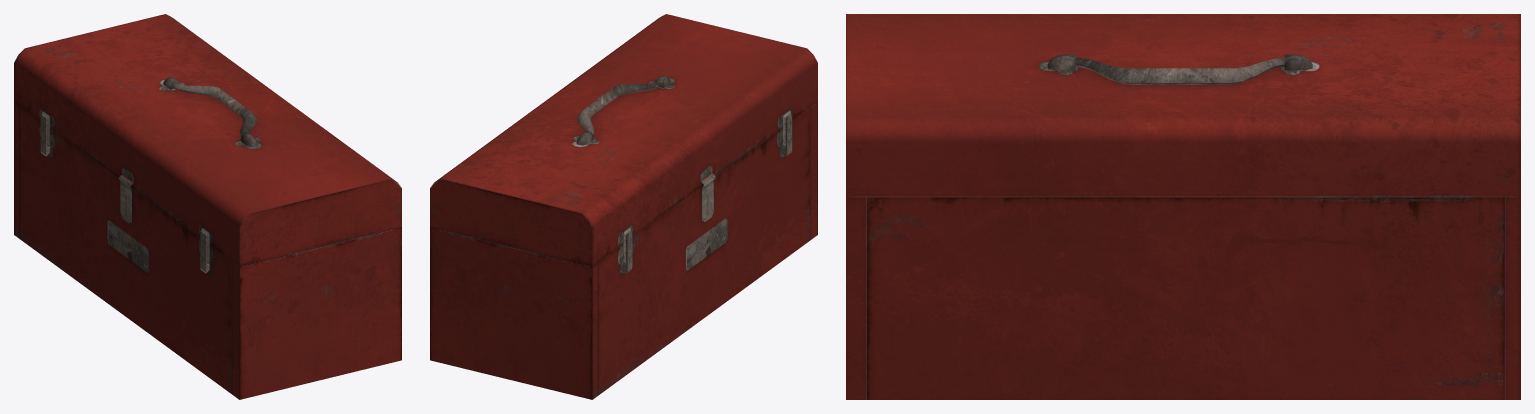
File: ms_toolbox.fbx
3 views of the same model, side by side, from view 1: azimuth 30°, elevation 25°; view 2: azimuth 150°, elevation 25°; view 3: azimuth 270°, elevation 25° (orthographic). The views are drawn at different scales.
Visible parts, largest first — view 1: ms_toolbox; view 2: ms_toolbox; view 3: ms_toolbox.
Boxes of the visible parts, bbox=[...] form: ms_toolbox: bbox=[14, 14, 401, 399]; ms_toolbox: bbox=[430, 14, 817, 399]; ms_toolbox: bbox=[846, 14, 1520, 399].
Bounding box in the file's own units: 20.78 × 23.1 × 48.71.
